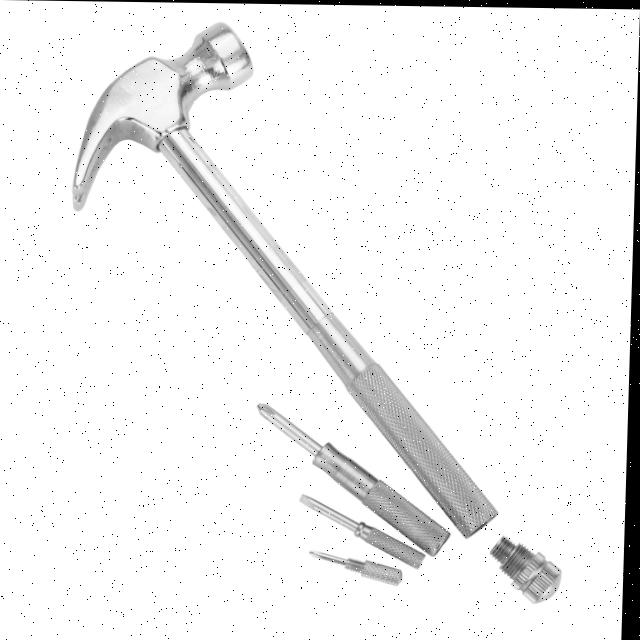Screwdriver: (261, 403, 453, 554), (303, 494, 428, 568), (313, 550, 406, 585)
